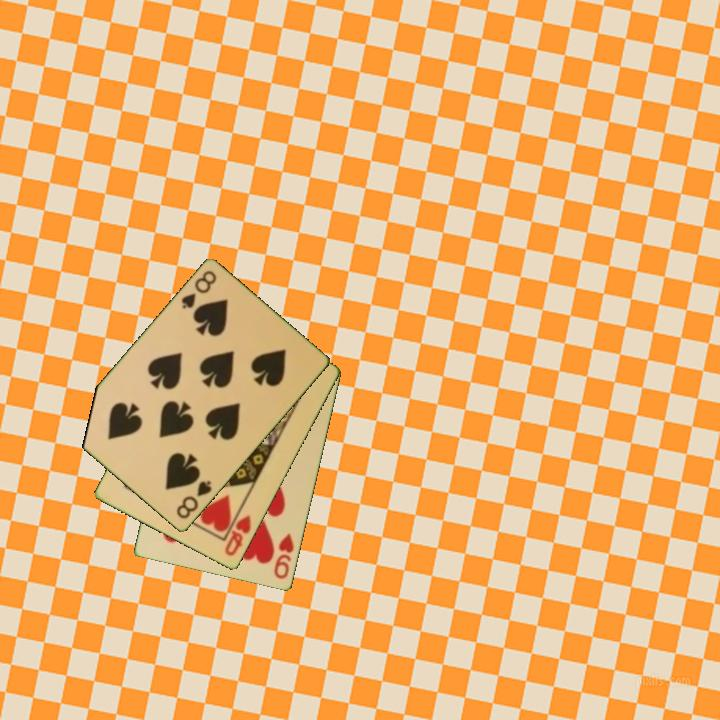8s: (173, 477, 215, 522), (178, 267, 219, 312)
9h: (271, 530, 297, 582)
Qh: (221, 512, 254, 559)
